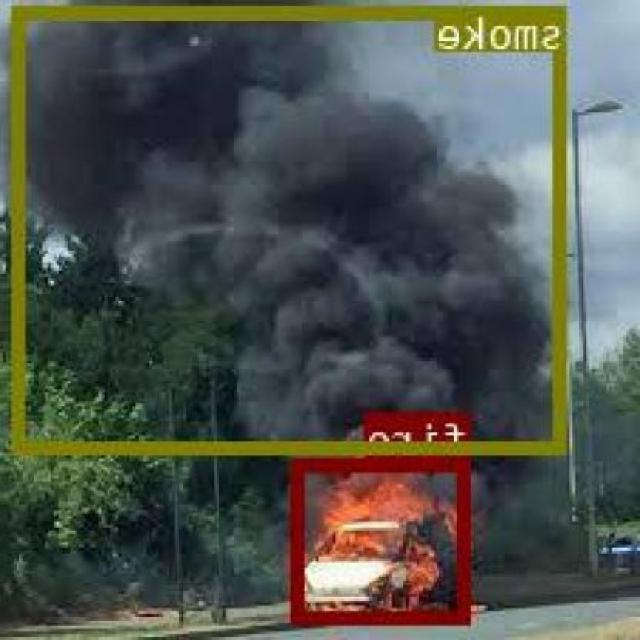Fire: (294, 458, 472, 622)
Smoke: (15, 4, 568, 453)
